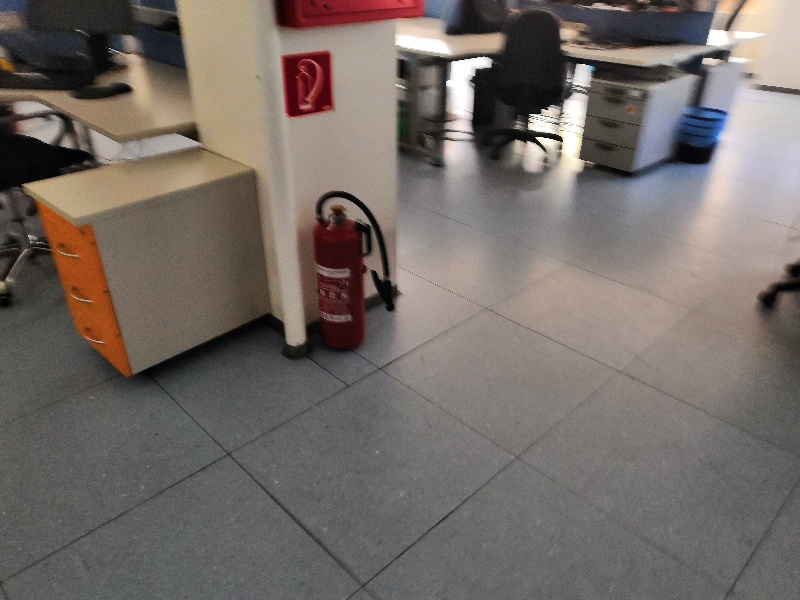vataparat: (313, 191, 396, 349)
